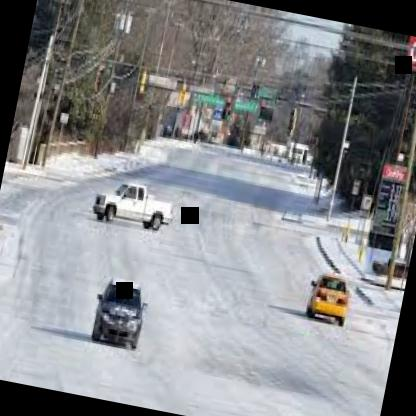car: (87, 162, 188, 244), (83, 262, 161, 359), (294, 252, 362, 340)
